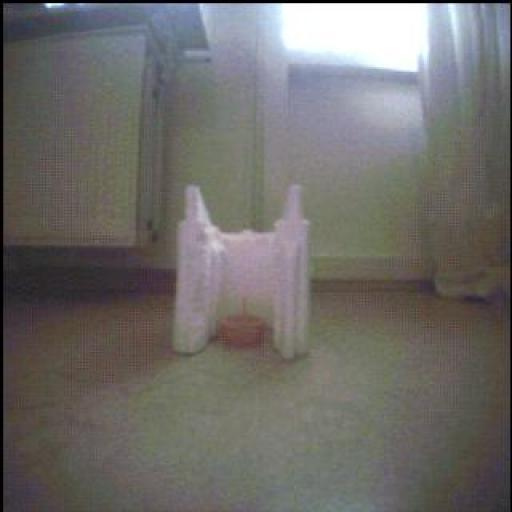Basket: (219, 315, 268, 347)
